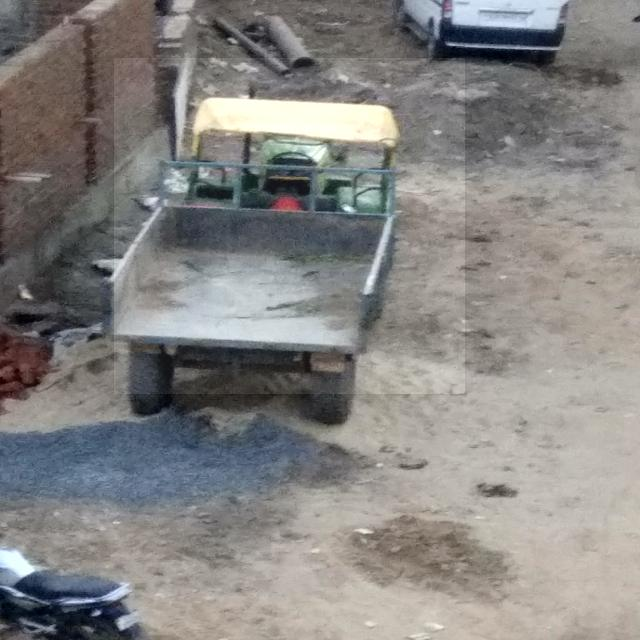Tractot: (114, 58, 465, 394)
